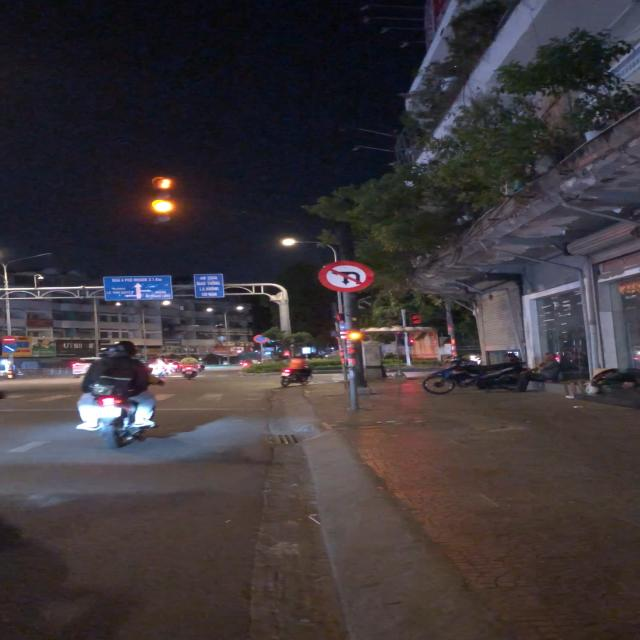Bien bao cam di nguoc chieu: (1, 334, 20, 344)
Bien bao cam re trai va quay dau: (318, 260, 374, 294)
Bien bao huong phai di vong chuong ngai vat: (2, 344, 19, 354)
